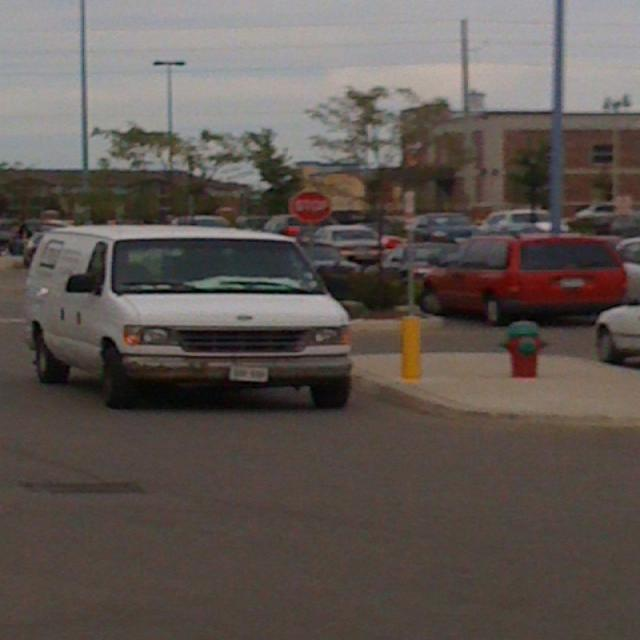Vehicle: (24, 223, 358, 410), (27, 223, 356, 410), (424, 233, 623, 328), (297, 238, 400, 314), (378, 243, 464, 304), (404, 211, 493, 244), (593, 305, 640, 364), (263, 216, 342, 240), (316, 226, 381, 255), (495, 209, 570, 234), (615, 238, 640, 304), (21, 233, 46, 269), (171, 215, 231, 228), (576, 202, 616, 219)
